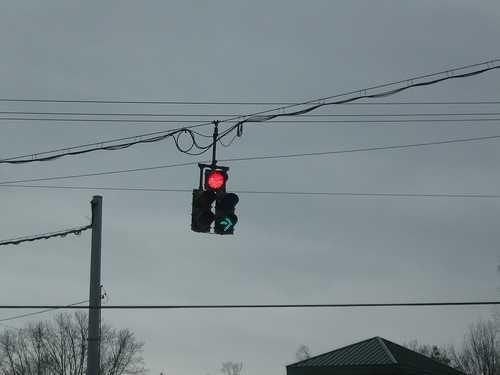green: (218, 212, 238, 232)
red: (202, 164, 230, 191)
